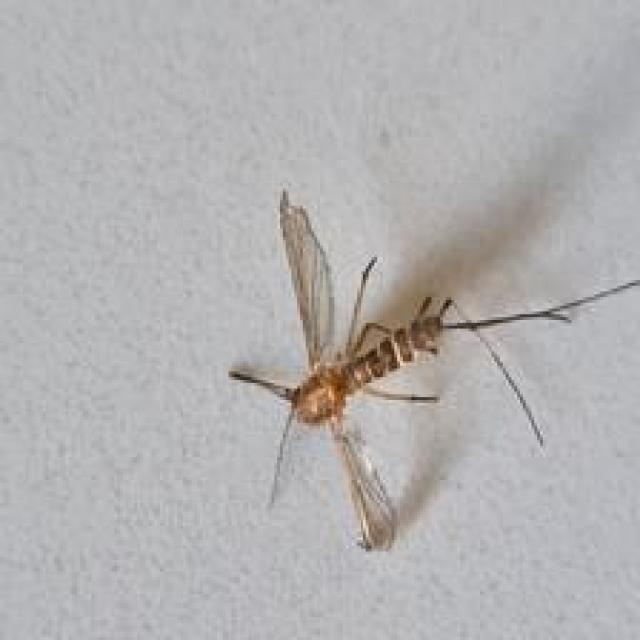Culex: (225, 187, 640, 552)
